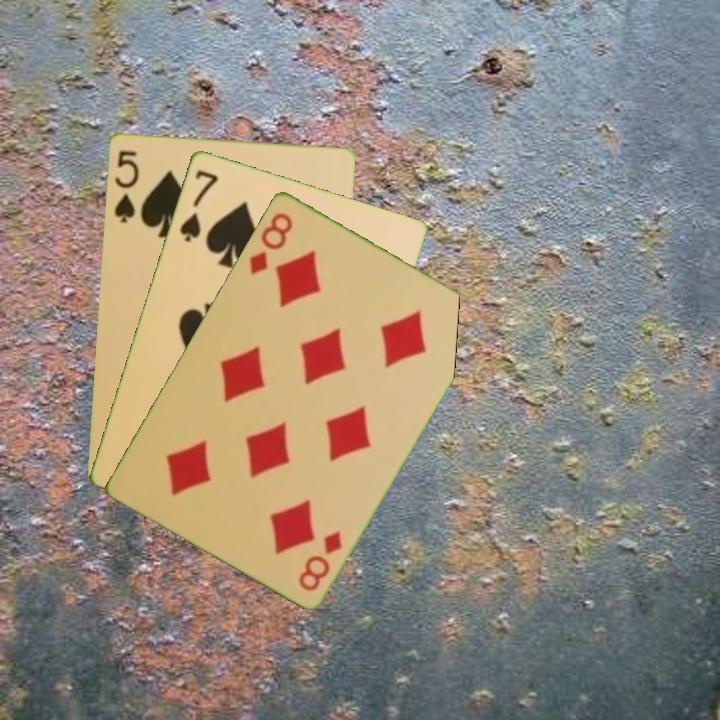5s: (110, 146, 142, 226)
7s: (175, 166, 221, 245)
8d: (245, 208, 296, 278), (294, 526, 345, 594)
